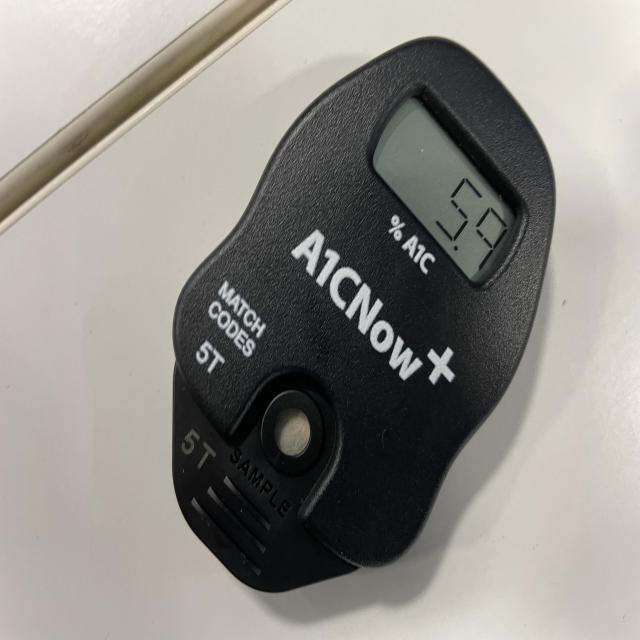hba1c: (171, 38, 553, 596)
